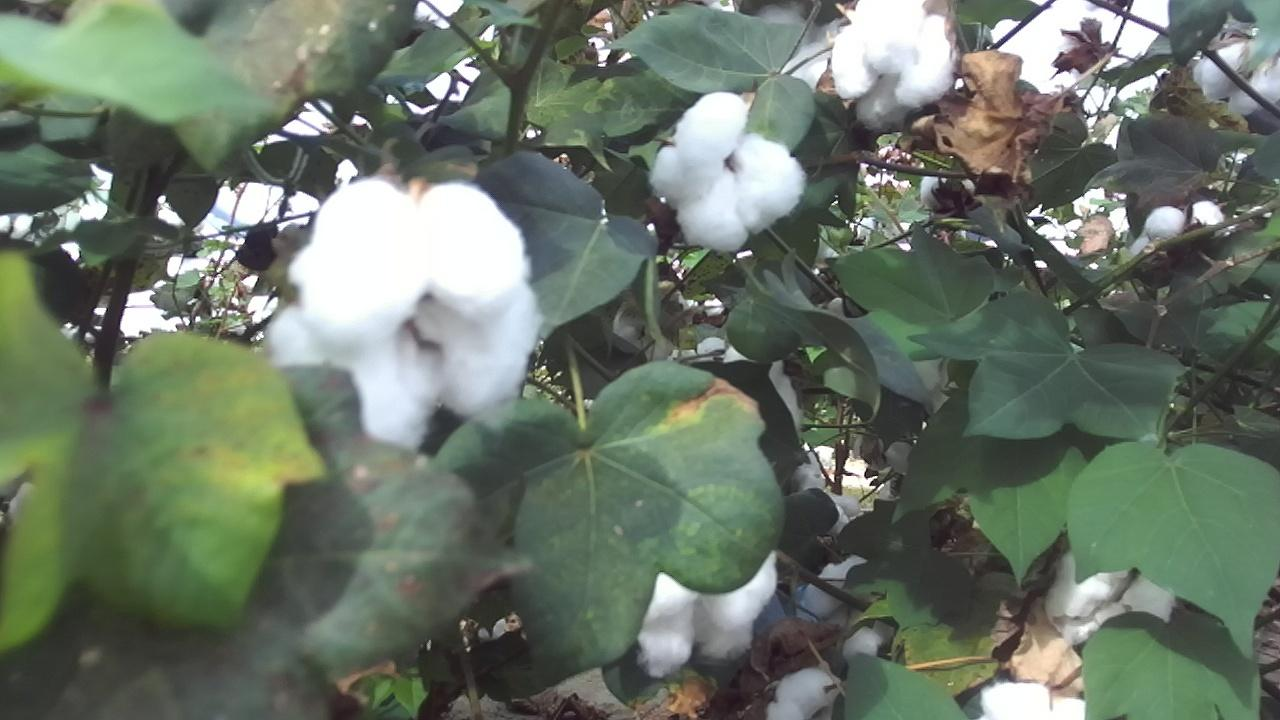cotton_ready: (293, 184, 542, 425), (652, 90, 805, 254), (637, 545, 779, 678), (833, 0, 959, 122), (1046, 550, 1177, 643), (797, 554, 890, 659), (760, 4, 852, 90), (612, 279, 692, 363), (1194, 42, 1280, 118), (790, 463, 862, 539), (769, 665, 850, 720), (978, 682, 1089, 720), (269, 310, 340, 365), (1144, 199, 1222, 243), (765, 359, 804, 434), (692, 339, 752, 363)
